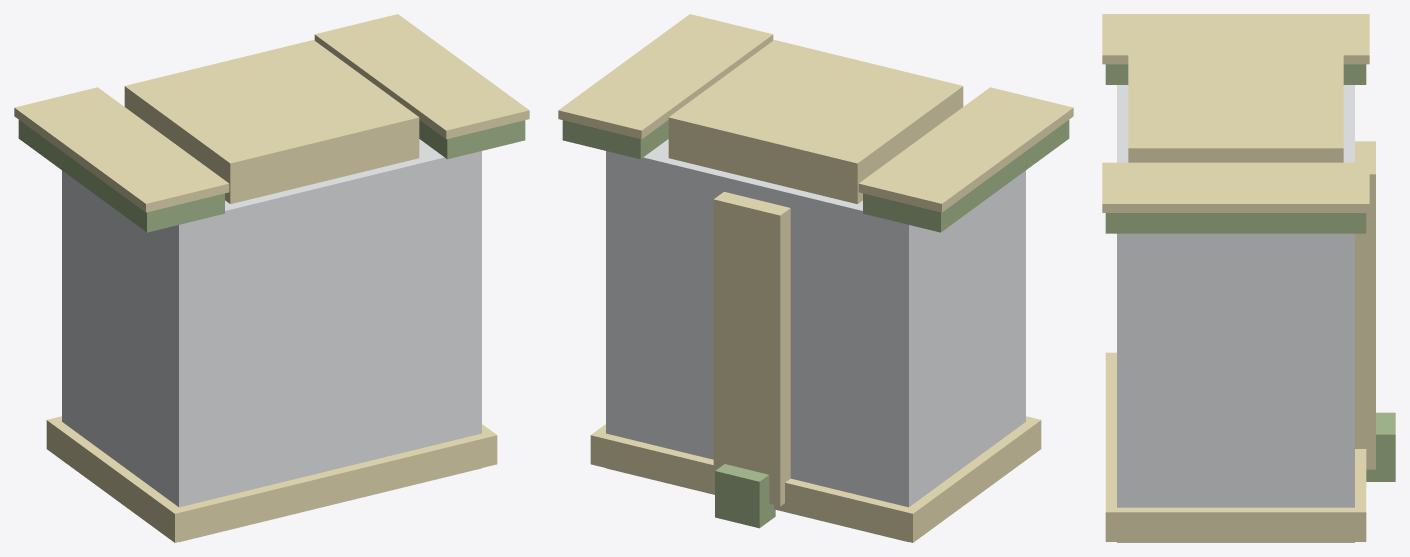
The model's file is rei_elfo_tronco.glb.
3 renders of one model, left to right at view 1: azimuth 30°, elevation 25°; view 2: azimuth 150°, elevation 25°; view 3: azimuth 270°, elevation 25°, orthographic.
Parts seen in each view (by area): view 1: rei_elfo_tronco; view 2: rei_elfo_tronco; view 3: rei_elfo_tronco.
Part boxes in pixels (<box>): rei_elfo_tronco: <box>14,14,529,542</box>; rei_elfo_tronco: <box>558,14,1073,542</box>; rei_elfo_tronco: <box>1102,14,1395,542</box>.
Bounding box in the file's own units: 0.69 × 0.625 × 0.45.
